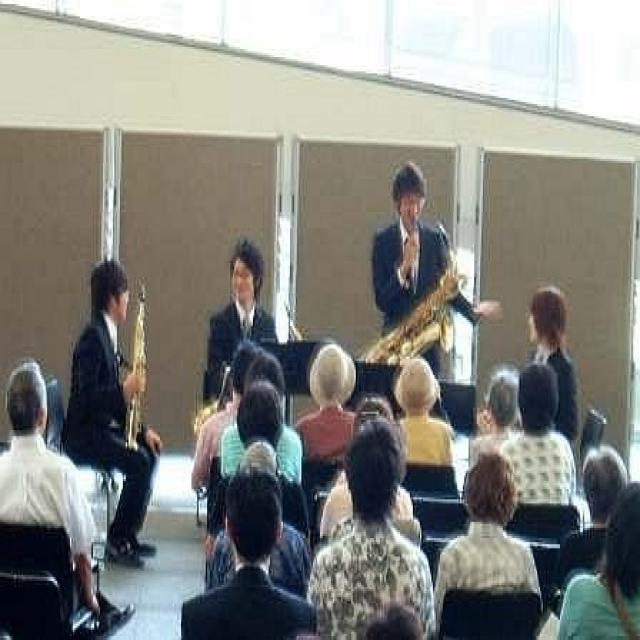saxophone: (355, 221, 462, 375)
